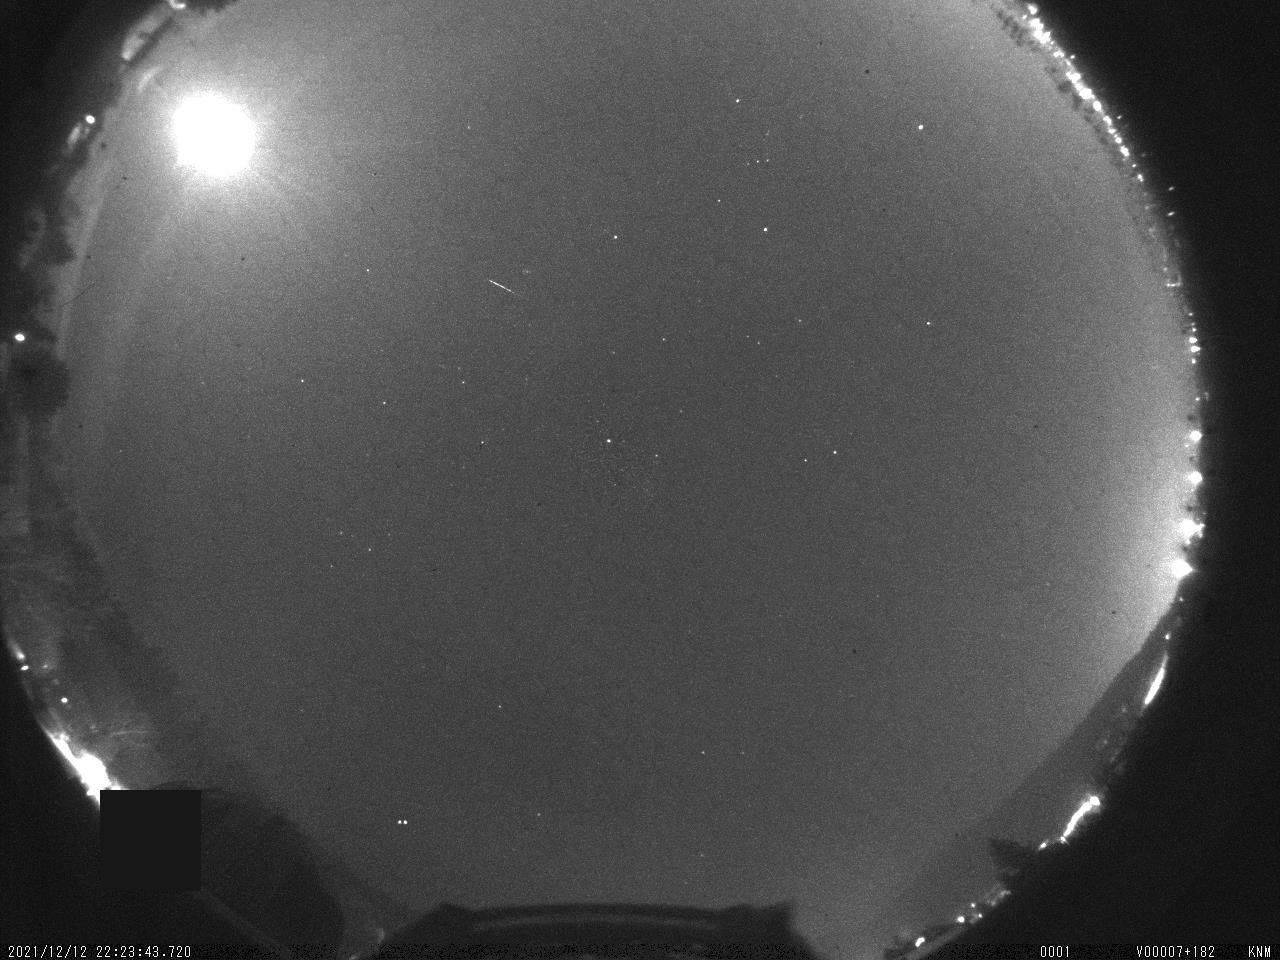meteor: (485, 277, 535, 308)
